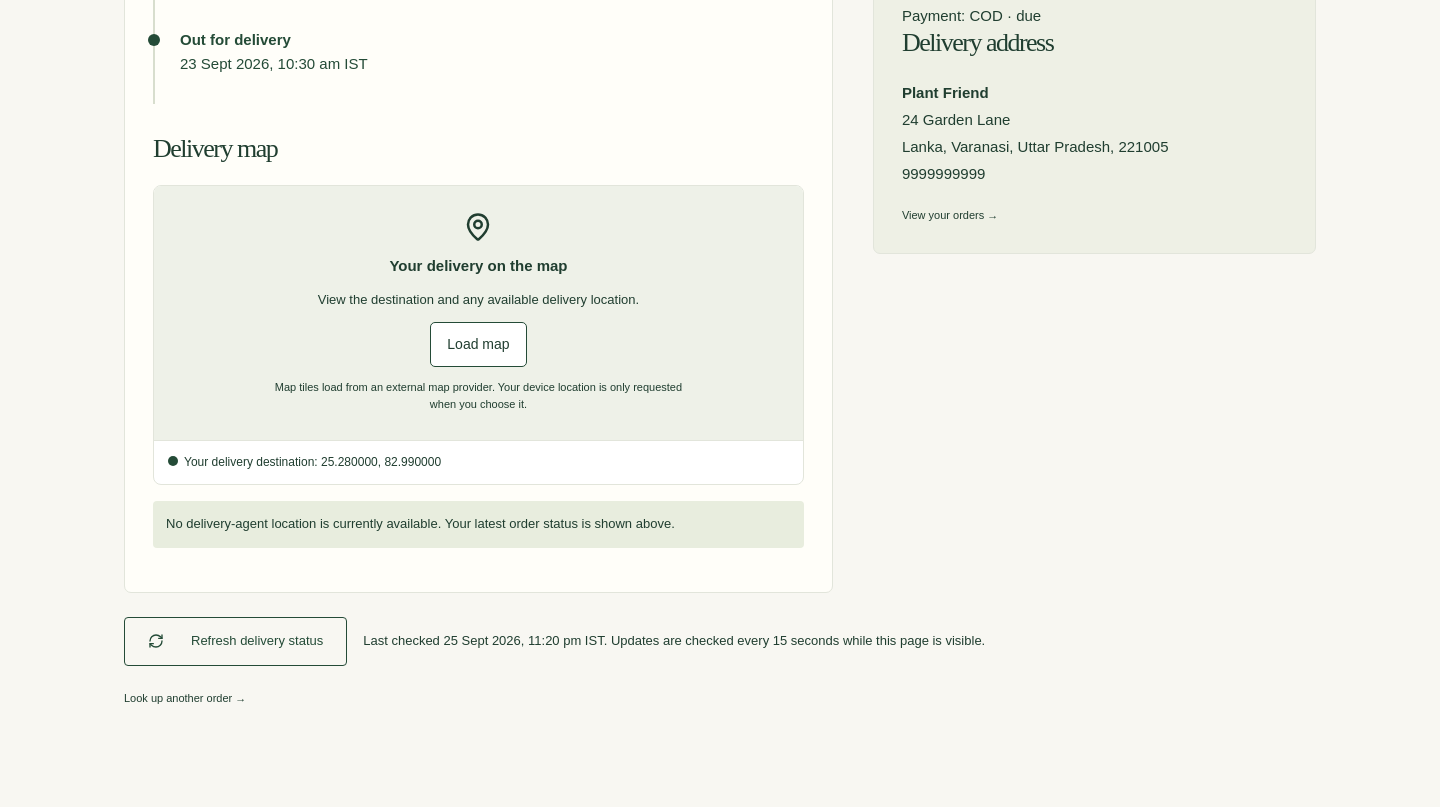
Scenario: owned order fetching › refreshes order and tracking together and removes protected data after access is lost
This screenshot has width=1440, height=807.
(page scrolled)
Click the button "Refresh delivery status".
click(236, 641)  # box [124, 617, 347, 666]
(page scrolled)
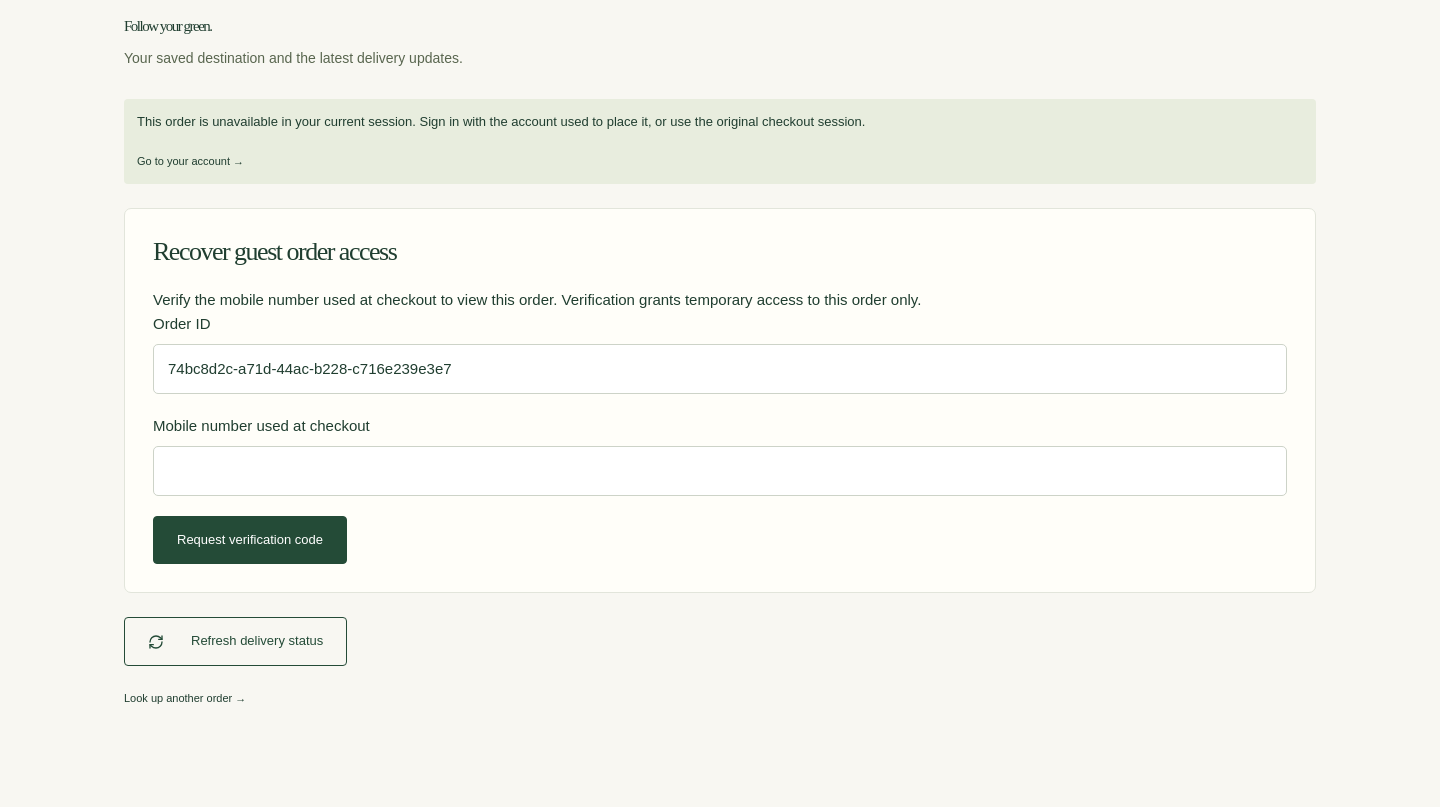
Now the text "This order is unavailable in your current session" is shown, box [137, 114, 865, 129]
Now the text "24 Garden Lane" is gone
